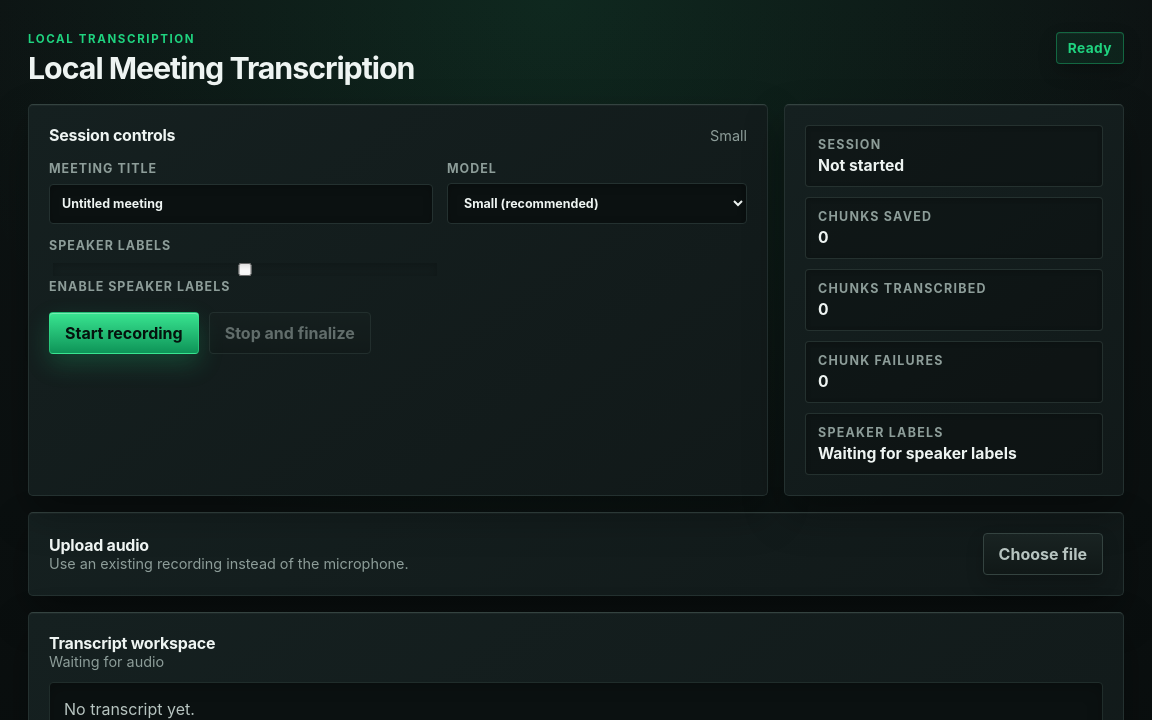
Test: App › disables controls while recording startup is in progress and prevents duplicate starts
The width and height of the screenshot is (1152, 720).
Click the button "Start recording": (124, 333) [49,312,199,354]
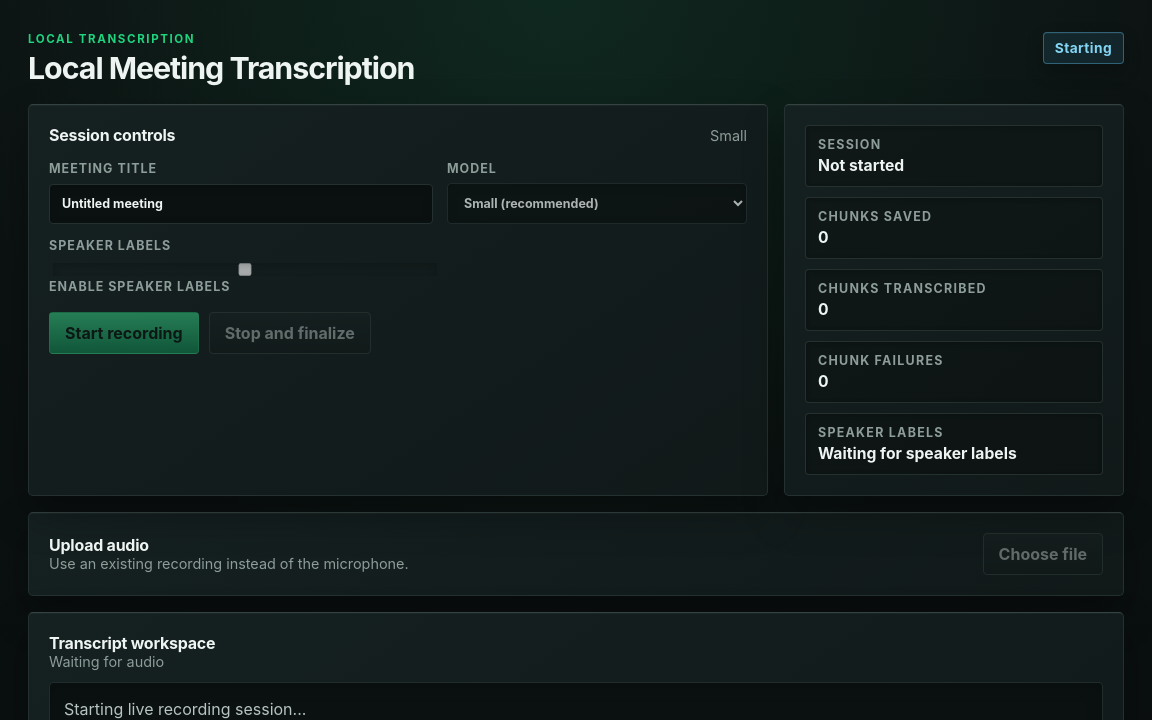
expect the button "Stop and finalize" is disabled: met, box [209,312,371,354]
expect the button "Start recording" is disabled: met
expect the dropdown labelled "Model" is disabled: met, box [447,183,747,224]
Click the button "Start recording": (124, 333) [49,312,199,354]
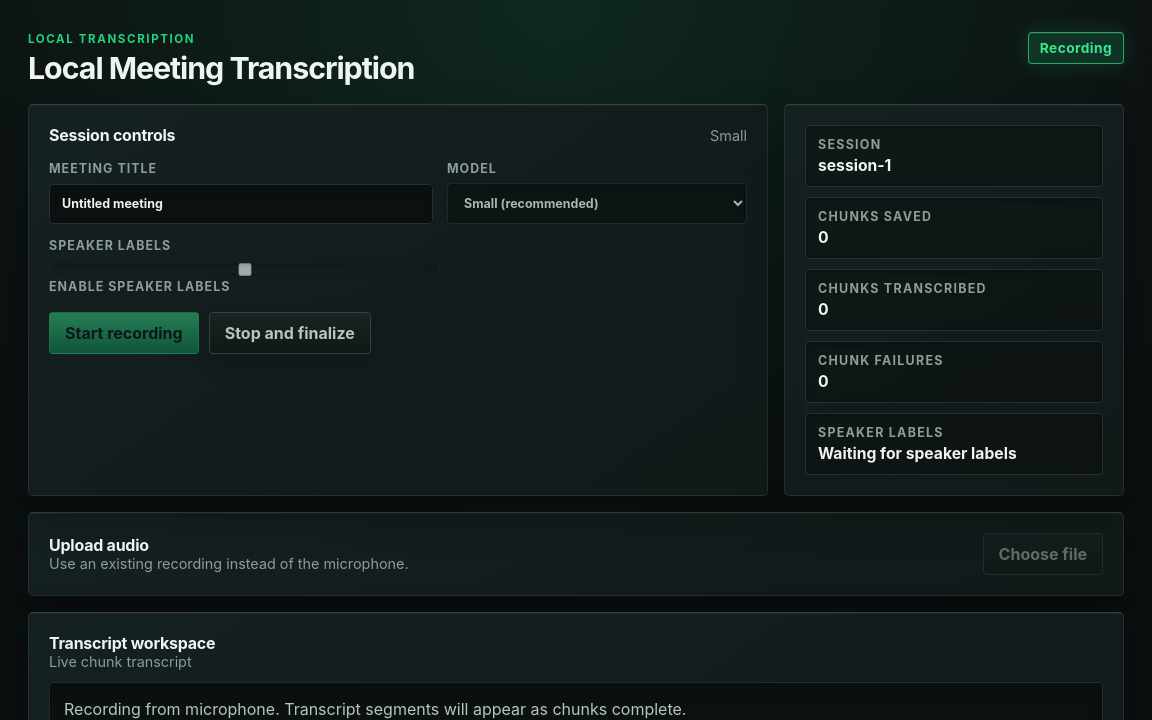
expect the button "Stop and finalize" is enabled: met, box [209,312,371,354]
